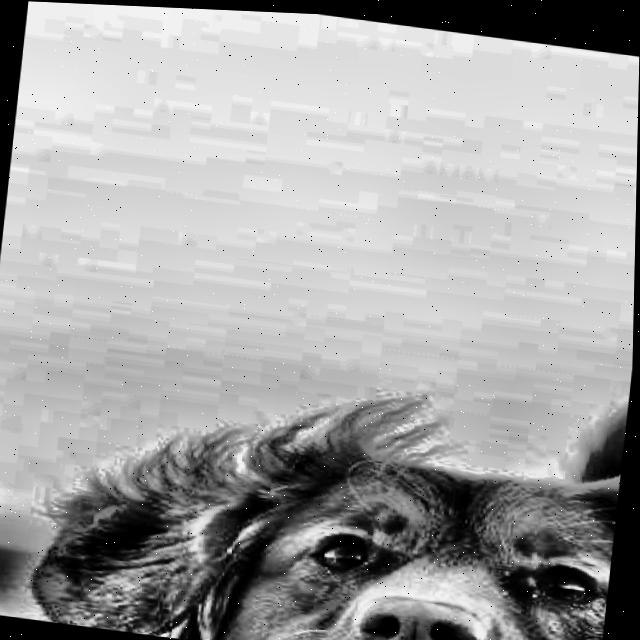dog: (0, 234, 635, 640)
